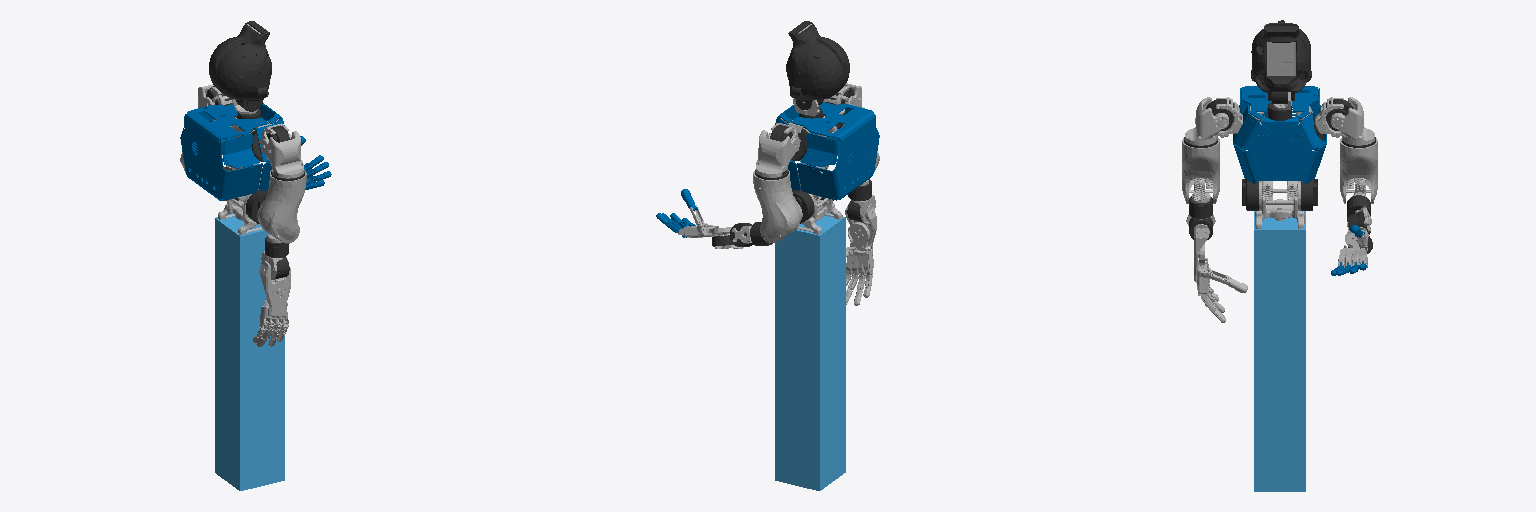
The robot description file, URDF, robot "prometheus_sim":
<?xml version="1.0"?>
<robot name="prometheus_sim">


<!-- * * * Enable Ros Control * * * -->
    <gazebo>
        <plugin name="gazebo_ros_control" filename="libgazebo_ros_control.so">
            <robotNamespace>/prometheus_sim</robotNamespace>
        </plugin>
    </gazebo>


<!-- * * * Link Definitions * * * -->
    <link name="world"/>


    <link name="base_link">
        <inertial>
            <origin xyz="0 0 0.41" rpy="0 0 0"/>
            <mass value="40.0" />
            <inertia ixx="2.91" ixy="0.0" ixz="0.0" iyy="2.91" iyz="0.0" izz="0.19"/>
        </inertial>

        <collision>
            <origin rpy="0 0 0" xyz="0 0 0.4112"/>
            <geometry>
                <box size="0.15 0.15 0.8224"/>
            </geometry>
        </collision>

        <visual>
            <origin rpy="0 0 0" xyz="0 0 0.4112"/>
            <geometry>
                <box size="0.15 0.15 0.8224"/>
            </geometry>
        </visual>
    </link>


    <link name="torso_yaw_link">
        <inertial>
            <origin xyz="0.00096955 0.0 0.07318917" rpy="0 0 0"/>
            <mass value="2.42957533" />
            <inertia ixx="0.01652605" ixy="-0.00000042" ixz="0.00020566" iyy="0.00644035" iyz="0.0" izz="0.01397825"/>
        </inertial>

        <collision>
            <origin rpy="0 0 0" xyz="0 0 0"/>
            <geometry>
                <mesh filename="package://prometheus_sim/meshes/low_poly/LINK_TORSO_YAW_LOW_POLY.dae"/>
            </geometry>
        </collision>

        <visual>
            <origin rpy="0 0 0" xyz="0 0 0"/>
            <geometry>
                <mesh filename="package://prometheus_sim/meshes/mid_poly/LINK_TORSO_YAW_MID_POLY.dae"/>
            </geometry>
        </visual>
    </link>


    <link name="torso_pitch_link">
        <visual>
            <origin rpy="0 0 0" xyz="0 0 0.001"/>
            <geometry>
                <box size="0.002 0.002 0.002"/>
            </geometry>
        </visual>
    </link>


    <link name="torso_ref_origin_link">
        <inertial>
            <origin xyz="-0.00981774 -0.00068720 0.02532159" rpy="0 0 0"/>
            <mass value="3.62410616" />
            <inertia ixx="0.03162012" ixy="-0.00001566" ixz="0.00102602" iyy="0.02171408" iyz="-0.00006840" izz="0.02657945"/>
        </inertial>

        <collision>
            <origin rpy="0 0 0" xyz="0 0 0"/>
            <geometry>
                <mesh filename="package://prometheus_sim/meshes/low_poly/LINK_TORSO_REF_ORIGIN_LOW_POLY.dae"/>
            </geometry>
        </collision>

        <visual>
            <origin rpy="0 0 0" xyz="0 0 0"/>
            <geometry>
                <mesh filename="package://prometheus_sim/meshes/mid_poly/LINK_TORSO_REF_ORIGIN_MID_POLY.dae"/>
            </geometry>
        </visual>
    </link>


    <link name="right_DOF1_link">
        <inertial>
            <origin xyz="-0.00213790 -0.00000438 0.06178607" rpy="0 0 0"/>
            <mass value="0.8268" />
            <inertia ixx="0.00127039" ixy="-0.00000003" ixz="-0.00001041" iyy="0.00089802" iyz="0.00000001" izz="0.00085070"/>
        </inertial>

        <collision>
            <origin rpy="0 0 0" xyz="0 0 0"/>
            <geometry>
                <mesh filename="package://prometheus_sim/meshes/low_poly/LINK_DOF1_RIGHT_ARM_LOW_POLY.dae"/>
            </geometry>
        </collision>

        <visual>
            <origin rpy="0 0 0" xyz="0 0 0"/>
            <geometry>
                <mesh filename="package://prometheus_sim/meshes/mid_poly/LINK_DOF1_RIGHT_ARM_MID_POLY.dae"/>
            </geometry>
        </visual>
    </link>   


    <link name="right_DOF2_link">
        <inertial>
            <origin xyz="0.00151728 0.05325369 0.06113672" rpy="0 0 0"/>
            <mass value="0.99291414" />
            <inertia ixx="0.00202305" ixy="-0.00002757" ixz="-0.00005487" iyy="0.00208730" iyz="0.00026328" izz="0.00144375"/>
        </inertial>

        <collision>
            <origin rpy="0 0 0" xyz="0 0 0"/>
            <geometry>
                <mesh filename="package://prometheus_sim/meshes/low_poly/LINK_DOF2_RIGHT_ARM_LOW_POLY.dae"/>
            </geometry>
        </collision>

        <visual>
            <origin rpy="0 0 0" xyz="0 0 0"/>
            <geometry>
                <mesh filename="package://prometheus_sim/meshes/mid_poly/LINK_DOF2_RIGHT_ARM_MID_POLY.dae"/>
            </geometry>
        </visual>
    </link>


    <link name="right_DOF3_link">
        <inertial>
            <origin xyz="-0.02040463 0.00360006 0.07121443" rpy="0 0 0"/>
            <mass value="1.12563260" />
            <inertia ixx="0.00280451" ixy="0.00003260" ixz="-0.00035912" iyy="0.00256372" iyz="-0.00008943" izz="0.00154456"/>
        </inertial>

        <collision>
            <origin rpy="0 0 0" xyz="0 0 0"/>
            <geometry>
                <mesh filename="package://prometheus_sim/meshes/low_poly/LINK_DOF3_RIGHT_ARM_LOW_POLY.dae"/>
            </geometry>
        </collision>

        <visual>
            <origin rpy="0 0 0" xyz="0 0 0"/>
            <geometry>
                <mesh filename="package://prometheus_sim/meshes/mid_poly/LINK_DOF3_RIGHT_ARM_MID_POLY.dae"/>
            </geometry>
        </visual>
    </link>


    <link name="right_DOF4_link">
        <inertial>
            <origin xyz="-0.01695323 0.00036641 0.05006552" rpy="0 0 0"/>
            <mass value="0.62675166" />
            <inertia ixx="0.00060208" ixy="0.00000398" ixz="-0.00005414" iyy="0.00061949" iyz="-0.00001208" izz="0.00048416"/>
        </inertial>

        <collision>
            <origin rpy="0 0 0" xyz="0 0 0"/>
            <geometry>
                <mesh filename="package://prometheus_sim/meshes/low_poly/LINK_DOF4_RIGHT_ARM_LOW_POLY.dae"/>
            </geometry>
        </collision>

        <visual>
            <origin rpy="0 0 0" xyz="0 0 0"/>
            <geometry>
                <mesh filename="package://prometheus_sim/meshes/mid_poly/LINK_DOF4_RIGHT_ARM_MID_POLY.dae"/>
            </geometry>
        </visual>
    </link>


    <link name="right_DOF5_link">
        <inertial>
            <origin xyz="-0.00085709 0.00000800 0.04117317" rpy="0 0 0"/>
            <mass value="0.60326285" />
            <inertia ixx="0.00050902" ixy="-0.00000007" ixz="0.00001661" iyy="0.00045730" iyz="-0.00000005" izz="0.00044181"/>
        </inertial>

        <collision>
            <origin rpy="0 0 0" xyz="0 0 0"/>
            <geometry>
                <mesh filename="package://prometheus_sim/meshes/low_poly/LINK_DOF5_RIGHT_ARM_LOW_POLY.dae"/>
            </geometry>
        </collision>

        <visual>
            <origin rpy="0 0 0" xyz="0 0 0"/>
            <geometry>
                <mesh filename="package://prometheus_sim/meshes/mid_poly/LINK_DOF5_RIGHT_ARM_MID_POLY.dae"/>
            </geometry>
        </visual>
    </link>


    <link name="right_DOF6_link">
        <inertial>
            <origin xyz="0.00101378 -0.01039349 0.13093043" rpy="0 0 0"/>
            <mass value="0.59540966" />
            <inertia ixx="0.00285121" ixy="-0.00012323" ixz="0.00005430" iyy="0.00287587" iyz="-0.00045441" izz="0.00079492"/>
        </inertial>

        <collision>
            <origin rpy="0 0 0" xyz="0 0 0"/>
            <geometry>
                <mesh filename="package://prometheus_sim/meshes/low_poly/LINK_DOF6_WITH_HAND_RIGHT_ARM_LOW_POLY.dae"/>
            </geometry>
        </collision>

        <visual>
            <origin rpy="0 0 0" xyz="0 0 0"/>
            <geometry>
                <mesh filename="package://prometheus_sim/meshes/mid_poly/LINK_DOF6_WITH_HAND_RIGHT_ARM_MID_POLY.dae"/>
            </geometry>
        </visual>
    </link>


    <link name="fixed_head_link">
        <inertial>
            <origin xyz="0.00258294 0.00324202 0.10829708" rpy="0 0 0"/>
            <mass value="1.65710494" />
            <inertia ixx="0.01000159" ixy="0.00000721" ixz="0.00038472" iyy="0.00885567" iyz="0.00015854" izz="0.00280493"/>
        </inertial>

        <collision>
            <origin rpy="0 0 0" xyz="0 0 0"/>
            <geometry>
                <mesh filename="package://prometheus_sim/meshes/low_poly/FIXED_HEAD_LINK_LOW_POLY.dae"/>
            </geometry>
        </collision>
        
        <visual>
            <origin rpy="0 0 0" xyz="0 0 0"/>
            <geometry>
                <mesh filename="package://prometheus_sim/meshes/mid_poly/FIXED_HEAD_LINK_MID_POLY.dae"/>
            </geometry>
        </visual>
    </link>


    <link name="fixed_left_arm_link">
        <inertial>
            <origin xyz="0.04328849 0.17747975 0.03404145" rpy="0 0 0"/>
            <mass value="4.95244949" />
            <inertia ixx="0.08076763" ixy="0.03010671" ixz="-0.01270765" iyy="0.04730563" iyz="-0.02112242" izz="0.10541212"/>
        </inertial>

        <collision>
            <origin rpy="0 0 0" xyz="0 0 0"/>
            <geometry>
                <mesh filename="package://prometheus_sim/meshes/low_poly/FIXED_LEFT_ARM_LINK_LOW_POLY.dae"/>
            </geometry>
        </collision>

        <visual>
            <origin rpy="0 0 0" xyz="0 0 0"/>
            <geometry>
                <mesh filename="package://prometheus_sim/meshes/mid_poly/FIXED_LEFT_ARM_LINK_MID_POLY.dae"/>
            </geometry>
        </visual>
    </link>   


<!-- * * * Joint Definitions * * * -->

    <joint name="fixed" type="fixed">
        <parent link="world"/>
        <child link="base_link"/>
    </joint>


    <joint name="torso_yaw_joint" type="revolute">
        <parent link="base_link"/>
        <child link="torso_yaw_link"/>
        <origin xyz="0 0 0.8224" rpy="0 0 0"/>
        <limit lower="-1.57079" upper="1.57079" effort="13" velocity="1.15"/>
        <axis xyz="0 0 1"/>
    </joint>
    <transmission name="tran_torso_1">
        <type>transmission_interface/SimpleTransmission</type>
        <joint name="torso_yaw_joint">
            <hardwareInterface>EffortJointInterface</hardwareInterface>
        </joint>
        <actuator name="motor_torso_1">
            <hardwareInterface>EffortJointInterface</hardwareInterface>
            <mechanicalReduction>1</mechanicalReduction>
        </actuator>
    </transmission>    


    <joint name="torso_pitch_joint" type="revolute">
        <parent link="torso_yaw_link"/>
        <child link="torso_pitch_link"/>
        <origin xyz="0 0 0.16174" rpy="0 0 0"/>
        <limit lower="-0.174533" upper="0.610865" effort="104" velocity="1.15"/>
        <axis xyz="0 1 0"/>
    </joint>
    <transmission name="tran_torso_2">
        <type>transmission_interface/SimpleTransmission</type>
        <joint name="torso_pitch_joint">
            <hardwareInterface>EffortJointInterface</hardwareInterface>
        </joint>
        <actuator name="motor_torso_2">
            <hardwareInterface>EffortJointInterface</hardwareInterface>
            <mechanicalReduction>1</mechanicalReduction>
        </actuator>
    </transmission> 


    <joint name="torso_ref_joint" type="fixed">
        <parent link="torso_pitch_link"/>
        <child link="torso_ref_origin_link"/>
        <origin xyz="0 0 0.08100989" rpy="0 0 0"/>
    </joint>


    <joint name="right_DOF1_joint" type="revolute">
        <parent link="torso_ref_origin_link"/>
        <child link="right_DOF1_link"/>
        <origin xyz="0 -0.10758116 0.05016592" rpy="1.13446 0 0"/>
        <limit lower="-0.872664626" upper="3.14159" effort="13" velocity="1.15"/>
        <axis xyz="0 0 1"/>
    </joint>
    <transmission name="tran_right_DOF1">
        <type>transmission_interface/SimpleTransmission</type>
        <joint name="right_DOF1_joint">
            <hardwareInterface>EffortJointInterface</hardwareInterface>
        </joint>
        <actuator name="motor_right_DOF1">
            <hardwareInterface>EffortJointInterface</hardwareInterface>
            <mechanicalReduction>1</mechanicalReduction>
        </actuator>
    </transmission>


    <joint name="right_DOF2_joint" type="revolute">
        <parent link="right_DOF1_link"/>
        <child link="right_DOF2_link"/>
        <origin xyz="0 0 0.06503000" rpy="2.00713 0 0"/>
        <limit lower="-2.44346095" upper="0.174533" effort="13" velocity="1.15"/>
        <axis xyz="1 0 0"/>
    </joint>
    <transmission name="tran_right_DOF2">
        <type>transmission_interface/SimpleTransmission</type>
        <joint name="right_DOF2_joint">
            <hardwareInterface>EffortJointInterface</hardwareInterface>
        </joint>
        <actuator name="motor_right_DOF2">
            <hardwareInterface>EffortJointInterface</hardwareInterface>
            <mechanicalReduction>1</mechanicalReduction>
        </actuator>
    </transmission>


    <joint name="right_DOF3_joint" type="revolute">
        <parent link="right_DOF2_link"/>
        <child link="right_DOF3_link"/>
        <origin xyz="0 0.05827567 0.10006000" rpy="0 0 0"/>
        <limit lower="-1.91986218" upper="2.44346095" effort="9" velocity="1.15"/>
        <axis xyz="0 0 1"/>
    </joint>
    <transmission name="tran_right_DOF3">
        <type>transmission_interface/SimpleTransmission</type>
        <joint name="right_DOF3_joint">
            <hardwareInterface>EffortJointInterface</hardwareInterface>
        </joint>
        <actuator name="motor_right_DOF3">
            <hardwareInterface>EffortJointInterface</hardwareInterface>
            <mechanicalReduction>1</mechanicalReduction>
        </actuator>
    </transmission>


    <joint name="right_DOF4_joint" type="revolute">
        <parent link="right_DOF3_link"/>
        <child link="right_DOF4_link"/>
        <origin xyz="-0.01852500 0 0.14434000" rpy="0 0 0"/>
        <limit lower="-0.174533" upper="2.26893" effort="4.8" velocity="1.15"/>
        <axis xyz="0 1 0"/>
    </joint>
    <transmission name="tran_right_DOF4">
        <type>transmission_interface/SimpleTransmission</type>
        <joint name="right_DOF4_joint">
            <hardwareInterface>EffortJointInterface</hardwareInterface>
        </joint>
        <actuator name="motor_right_DOF4">
            <hardwareInterface>EffortJointInterface</hardwareInterface>
            <mechanicalReduction>1</mechanicalReduction>
        </actuator>
    </transmission>


    <joint name="right_DOF5_joint" type="revolute">
        <parent link="right_DOF4_link"/>
        <child link="right_DOF5_link"/>
        <origin xyz="-0.01852620 0 0.07852620" rpy="0 0 0"/>
        <limit lower="-2.26893" upper="2.26893" effort="1.6" velocity="1.15"/>
        <axis xyz="0 0 1"/>
    </joint>
    <transmission name="tran_right_DOF5">
        <type>transmission_interface/SimpleTransmission</type>
        <joint name="right_DOF5_joint">
            <hardwareInterface>EffortJointInterface</hardwareInterface>
        </joint>
        <actuator name="motor_right_DOF5">
            <hardwareInterface>EffortJointInterface</hardwareInterface>
            <mechanicalReduction>1</mechanicalReduction>
        </actuator>
    </transmission>


    <joint name="right_DOF6_joint" type="revolute">
        <parent link="right_DOF5_link"/>
        <child link="right_DOF6_link"/>
        <origin xyz="0 0 0.04330000" rpy="0 0 0"/>
        <limit lower="-1.22173048" upper="1.57079633" effort="1.6" velocity="1.15"/>
        <axis xyz="1 0 0"/>
    </joint>
    <transmission name="tran_right_DOF6">
        <type>transmission_interface/SimpleTransmission</type>
        <joint name="right_DOF6_joint">
            <hardwareInterface>EffortJointInterface</hardwareInterface>
        </joint>
        <actuator name="motor_right_DOF6">
            <hardwareInterface>EffortJointInterface</hardwareInterface>
            <mechanicalReduction>1</mechanicalReduction>
        </actuator>
    </transmission>


    <joint name="fixed_head_joint" type="fixed">
        <parent link="torso_ref_origin_link"/>
        <child link="fixed_head_link"/>
        <origin xyz="0 0 0.11247873" rpy="0 0 0"/>
    </joint>


    <joint name="fixed_left_arm_joint" type="fixed">
        <parent link="torso_ref_origin_link"/>
        <child link="fixed_left_arm_link"/>
        <origin xyz="0 0.10758116 0.05016592" rpy="-1.13446 0 0"/>
    </joint>


</robot>

--- Facts derived from the render (not from the file) ---
Views: 3 orthographic renders of the robot side by side, from view 1: azimuth 30°, elevation 25°; view 2: azimuth 150°, elevation 25°; view 3: azimuth 270°, elevation 25°.
Model prometheus_sim with 13 links and 12 joints (8 revolute, 4 fixed), rooted at world, posed every joint at zero.
Visible links, largest first — view 1: base_link, torso_ref_origin_link, fixed_head_link, right_DOF3_link, right_DOF6_link, right_DOF2_link, fixed_left_arm_link, torso_yaw_link; view 2: base_link, torso_ref_origin_link, fixed_left_arm_link, fixed_head_link, right_DOF6_link, torso_yaw_link; view 3: base_link, torso_ref_origin_link, fixed_left_arm_link, fixed_head_link, torso_yaw_link, right_DOF3_link, right_DOF6_link, right_DOF2_link, right_DOF1_link, right_DOF4_link.
Link boxes in pixels (x1=…): base_link: x1=215, y1=213, x2=284, y2=490; torso_ref_origin_link: x1=180, y1=103, x2=284, y2=200; fixed_head_link: x1=209, y1=21, x2=271, y2=114; right_DOF3_link: x1=257, y1=170, x2=306, y2=243; right_DOF6_link: x1=253, y1=257, x2=290, y2=346; right_DOF2_link: x1=261, y1=131, x2=304, y2=180; fixed_left_arm_link: x1=180, y1=84, x2=331, y2=189; torso_yaw_link: x1=218, y1=167, x2=267, y2=234; base_link: x1=775, y1=213, x2=845, y2=490; torso_ref_origin_link: x1=775, y1=102, x2=879, y2=200; fixed_left_arm_link: x1=656, y1=123, x2=802, y2=248; fixed_head_link: x1=786, y1=21, x2=849, y2=116; right_DOF6_link: x1=845, y1=202, x2=876, y2=305; torso_yaw_link: x1=792, y1=165, x2=842, y2=234; base_link: x1=1254, y1=211, x2=1305, y2=491; torso_ref_origin_link: x1=1233, y1=86, x2=1326, y2=189; fixed_left_arm_link: x1=1315, y1=97, x2=1377, y2=275; fixed_head_link: x1=1251, y1=20, x2=1311, y2=109; torso_yaw_link: x1=1242, y1=179, x2=1317, y2=228; right_DOF3_link: x1=1182, y1=138, x2=1219, y2=203; right_DOF6_link: x1=1194, y1=224, x2=1247, y2=322; right_DOF2_link: x1=1184, y1=97, x2=1228, y2=147; right_DOF1_link: x1=1206, y1=97, x2=1242, y2=137; right_DOF4_link: x1=1189, y1=181, x2=1212, y2=218.
Size in the robot's own frame: 0.5483 by 0.5579 by 1.44 metres.
10 mesh visuals loaded from 10 distinct referenced files (10 Collada DAE).